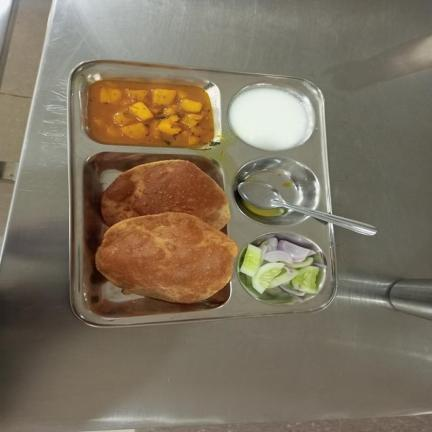Aalu Ki Sabji: (89, 81, 215, 146)
Dahi: (229, 86, 310, 148)
Plate: (68, 60, 337, 328)
Puri: (95, 159, 239, 304)
Salad: (241, 238, 318, 297)
